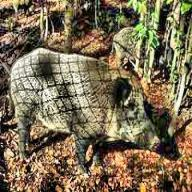boar: (3, 18, 187, 178)
